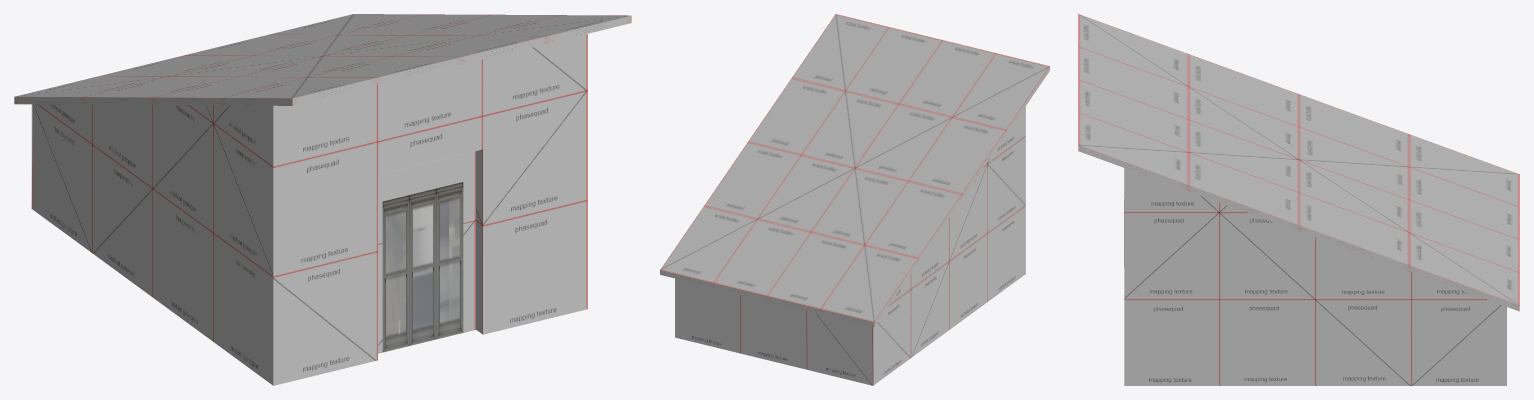
File: rd8_enter_a.FBX
The picture shows the model from 3 angles, left to right: view 1: azimuth 30°, elevation 25°; view 2: azimuth 150°, elevation 25°; view 3: azimuth 270°, elevation 25°; orthographic projection. The views are drawn at different scales.
Parts seen in each view (by area): view 1: R_Enter; view 2: R_Enter; view 3: R_Enter.
Boxes of the visible parts, x1,y1,x2,y2 form: R_Enter: [14, 14, 631, 385]; R_Enter: [660, 14, 1049, 385]; R_Enter: [1078, 14, 1519, 385].
Size of the model in its own units: 16.21 by 23 by 14.19.
Materials: 3 (3 with a texture image).
